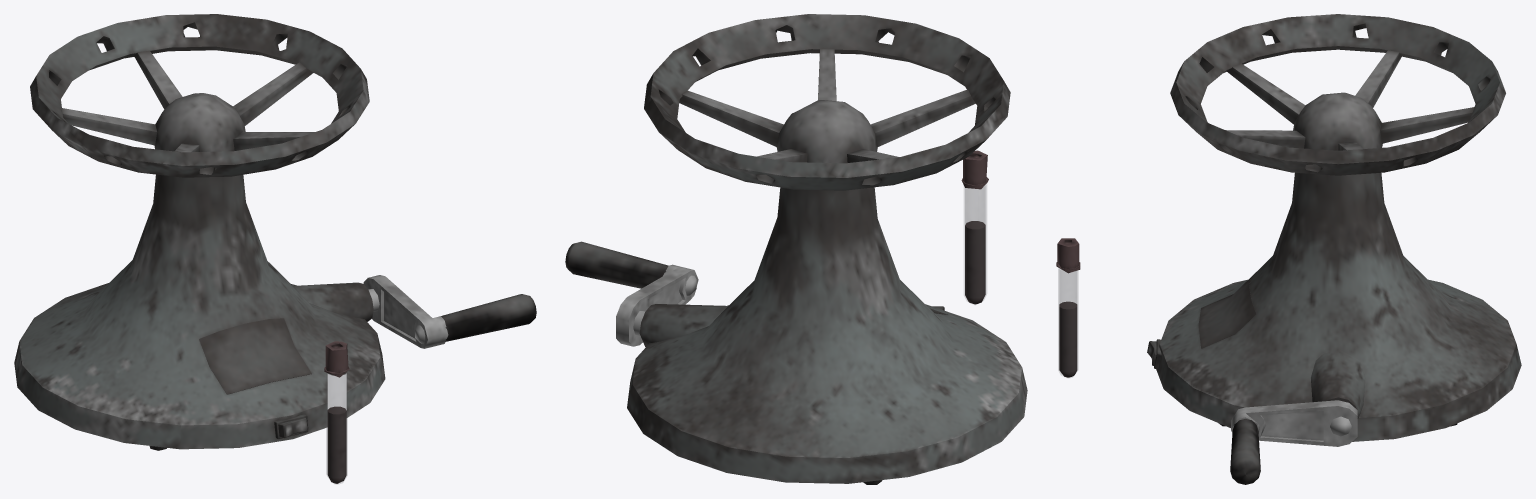
Rendered from centrifuge.glb.
3 views of the same model, side by side, from view 1: azimuth 30°, elevation 25°; view 2: azimuth 150°, elevation 25°; view 3: azimuth 270°, elevation 25° (orthographic). The views are drawn at different scales.
Parts seen in each view (by area): view 1: centrifuge; view 2: centrifuge; view 3: centrifuge.
Boxes of the visible parts, <box> form: centrifuge: <box>14,14,536,484</box>; centrifuge: <box>565,14,1027,484</box>; centrifuge: <box>1056,14,1521,484</box>.
Size of the model in its own units: 0.7777 by 0.5 by 0.7116.
1 material, 1 textured.
